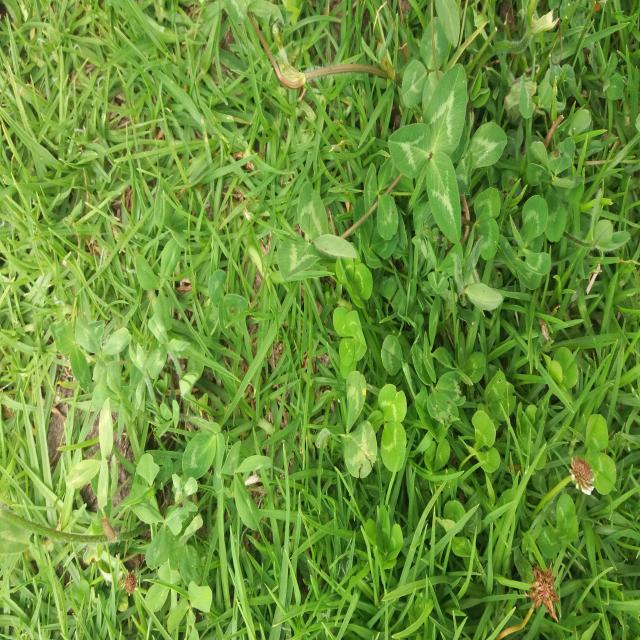Four Leaf Clover: (333, 306, 367, 379)
